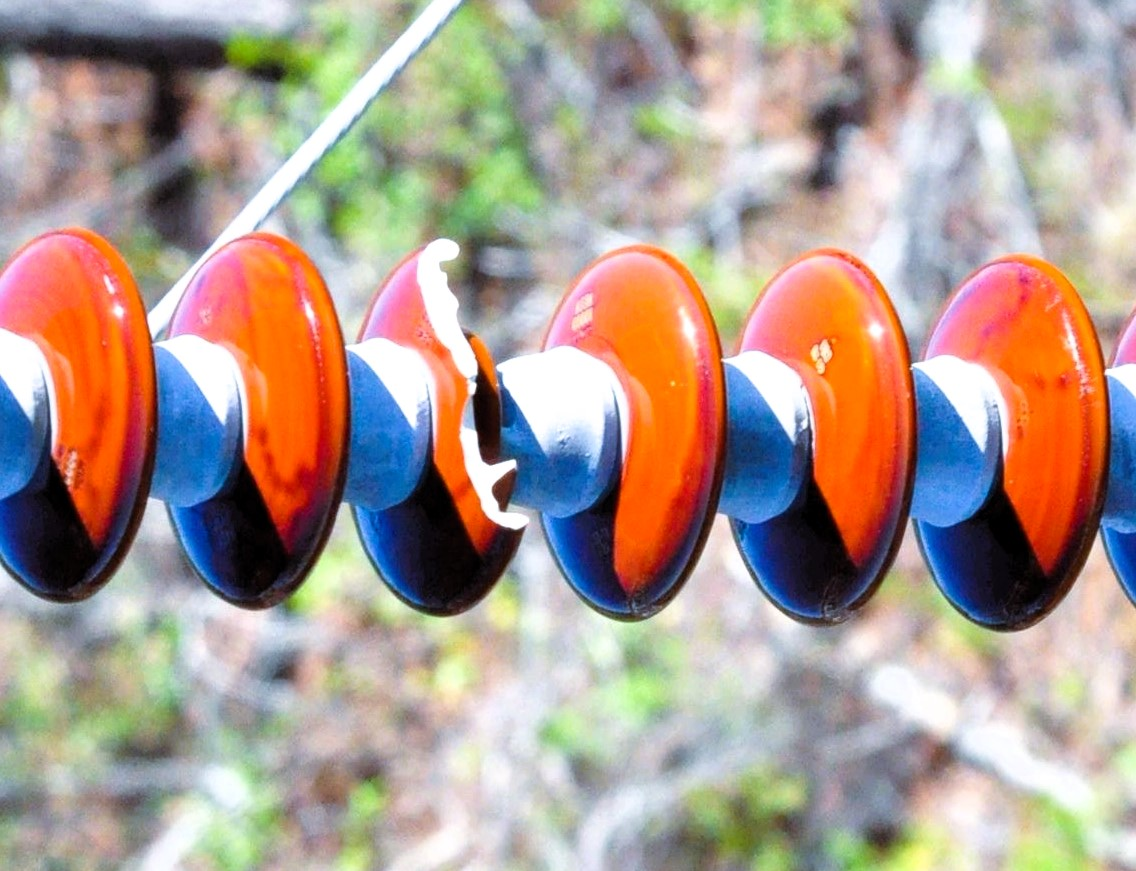insulator breakage: (350, 234, 532, 627)
